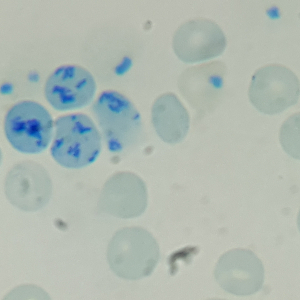aggregate reticulocyte: (90, 89, 145, 153), (49, 111, 103, 170), (2, 99, 53, 156), (43, 64, 98, 113)
erythrocyte: (105, 225, 160, 282), (94, 169, 149, 222), (2, 158, 54, 213), (171, 18, 230, 64), (212, 247, 265, 297), (150, 91, 192, 145)
punctate reticulocyte: (246, 63, 300, 116)
